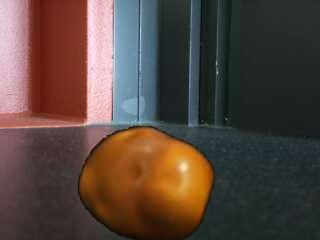Potato: (75, 124, 216, 240)
